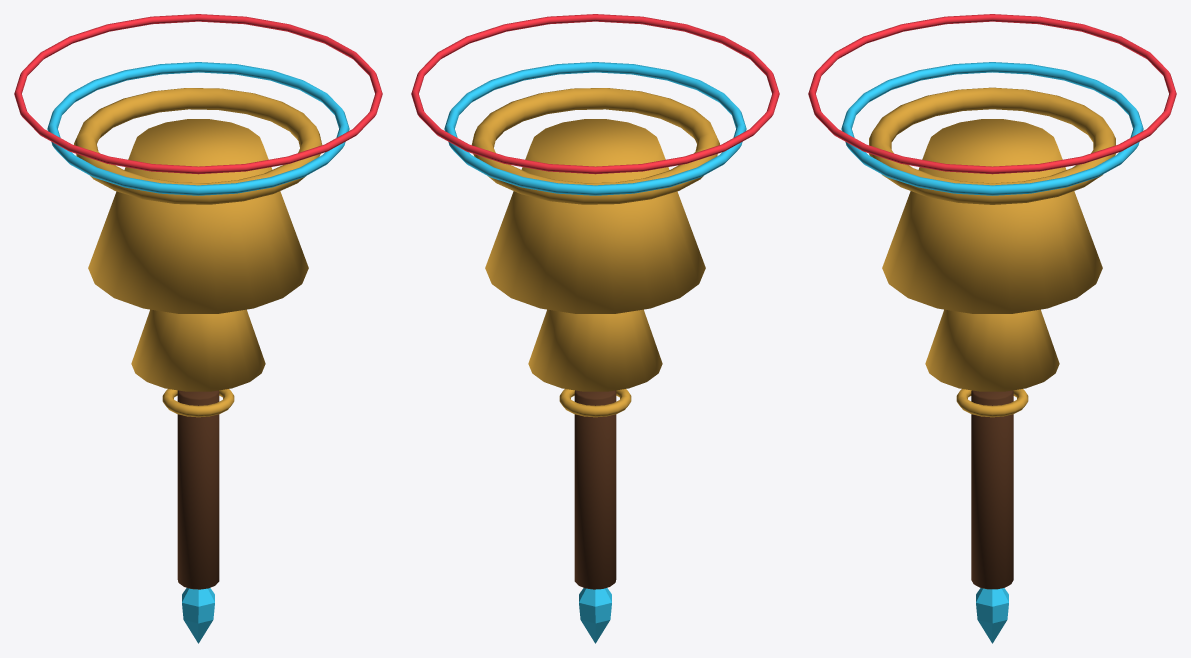
File: magic_bell.obj
3 views of the same model, side by side, from view 1: azimuth 30°, elevation 25°; view 2: azimuth 150°, elevation 25°; view 3: azimuth 270°, elevation 25° (orthographic).
Parts seen in each view (by area): view 1: BellSkirt, BellRim, BellUpper, Handle, SoundWave1, SoundWave2, HandleGem, HandleRing; view 2: BellSkirt, BellRim, BellUpper, Handle, SoundWave1, SoundWave2, HandleGem, HandleRing; view 3: BellSkirt, BellRim, BellUpper, Handle, SoundWave1, SoundWave2, HandleGem, HandleRing.
Part boxes in pixels (x1,y1,x2,y2): BellSkirt: (88,119,308,313); BellRim: (74,88,322,204); BellUpper: (131,309,265,391); Handle: (177,390,219,589); SoundWave1: (47,62,349,195); SoundWave2: (14,14,382,174); HandleGem: (182,588,214,643); HandleRing: (162,389,234,417); BellSkirt: (485,119,705,313); BellRim: (471,88,719,204); BellUpper: (528,309,662,391); Handle: (574,390,616,589); SoundWave1: (444,62,746,195); SoundWave2: (411,14,779,174); HandleGem: (579,588,611,643); HandleRing: (559,389,631,417); BellSkirt: (882,119,1102,313); BellRim: (869,87,1115,204); BellUpper: (925,309,1059,391); Handle: (971,390,1013,589); SoundWave1: (841,62,1143,195); SoundWave2: (808,14,1176,174); HandleGem: (976,588,1008,643); HandleRing: (956,389,1028,417).
Bounding box in the file's own units: 0.384 × 0.6355 × 0.384.
